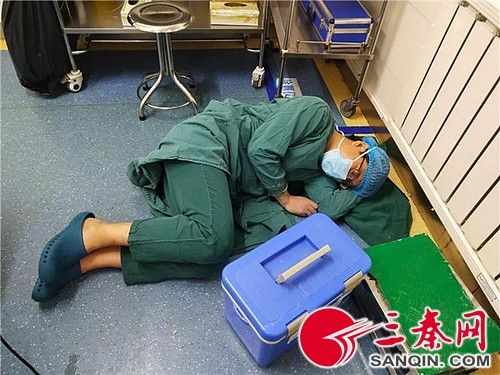falling: (28, 85, 410, 322)
